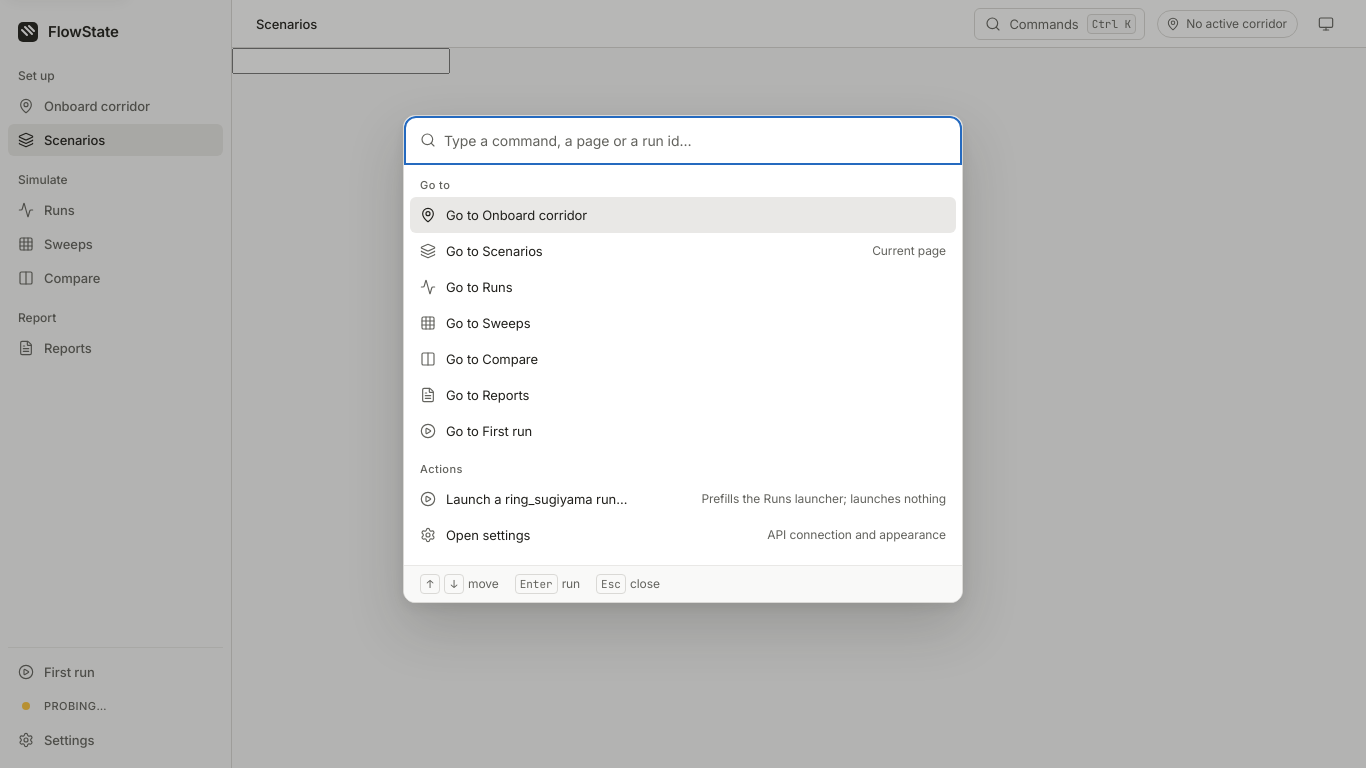
Test case: command palette: keyboard model › finds a page whose name the query spells across words
The image size is (1366, 768).
In the dropdown named "Search commands": point(695, 140) [444,120,946,160], type "goto onboard"
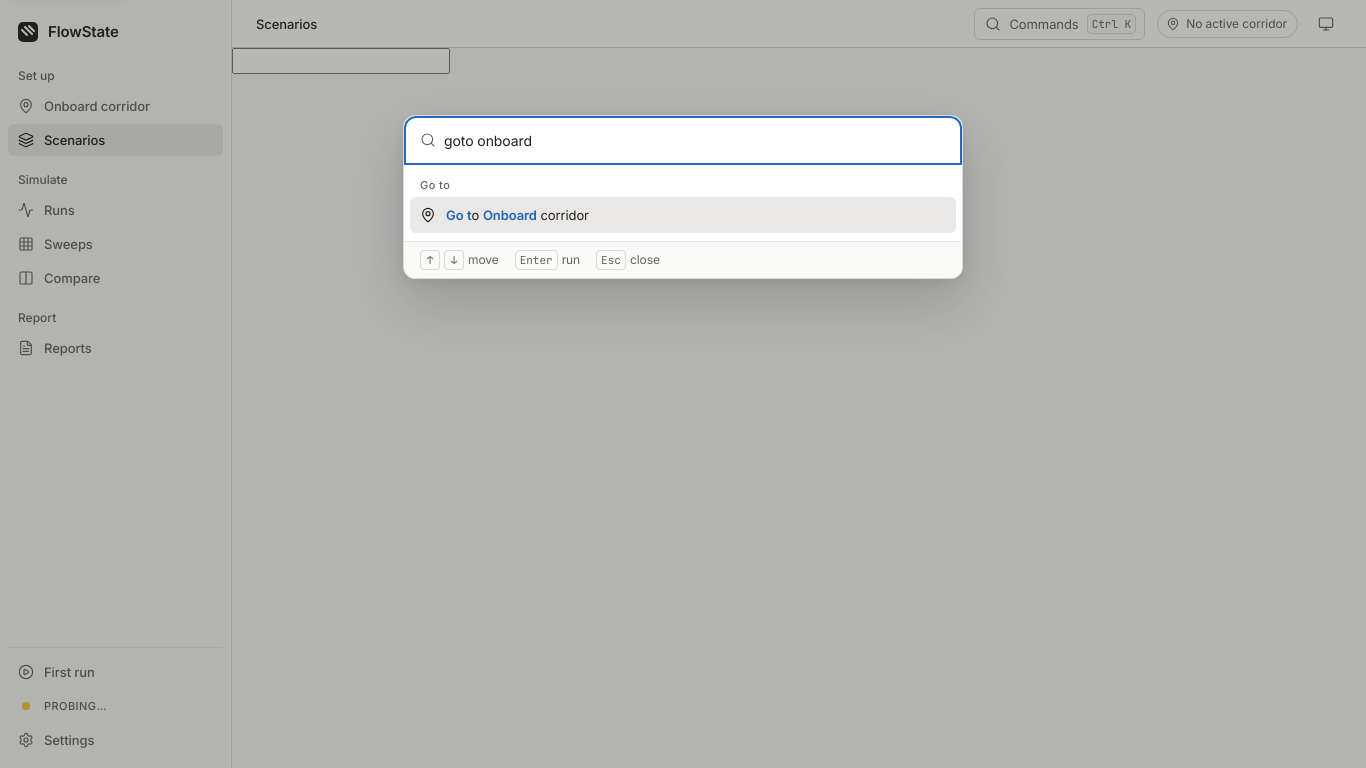
Replace the text in the dropdown named "Search commands" with "gofirst": point(695, 140) [444,120,946,160]
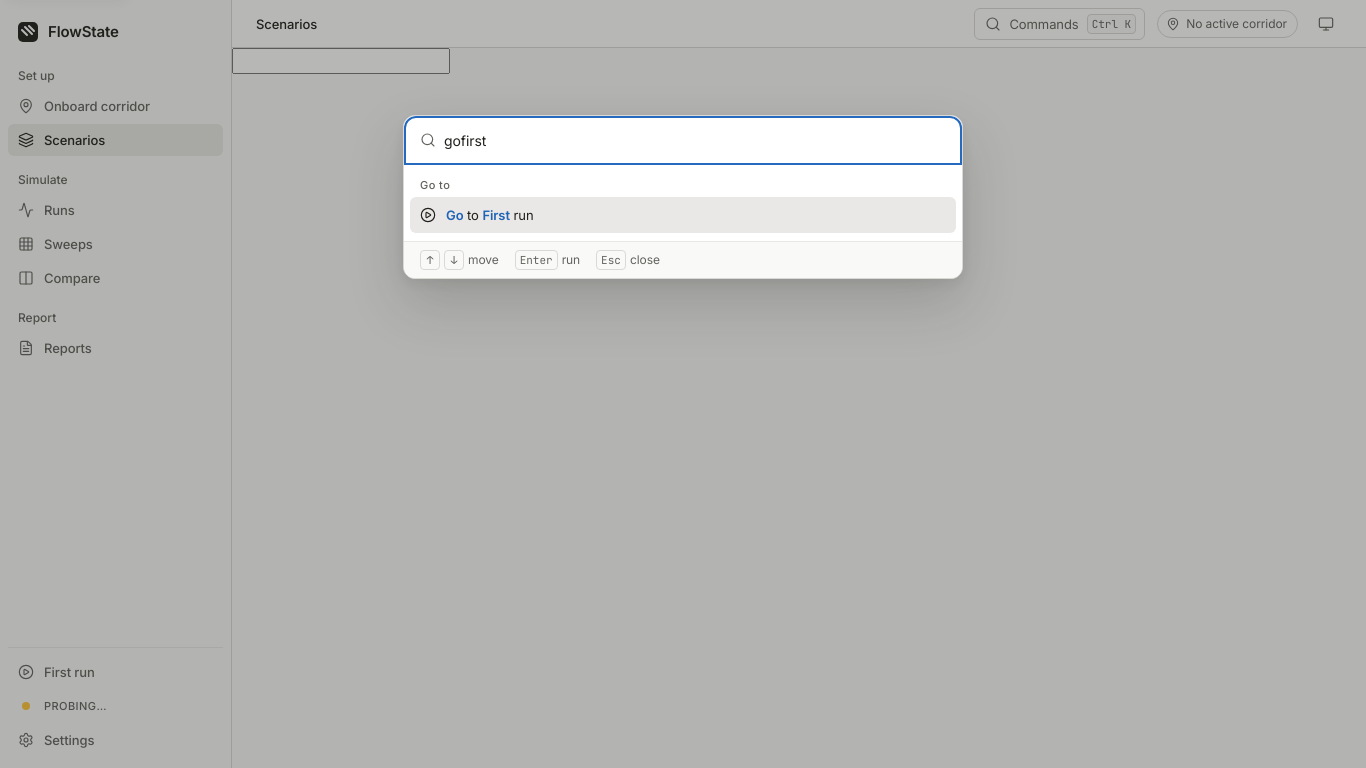
Replace the text in the dropdown named "Search commands" with "goto": point(695, 140) [444,120,946,160]
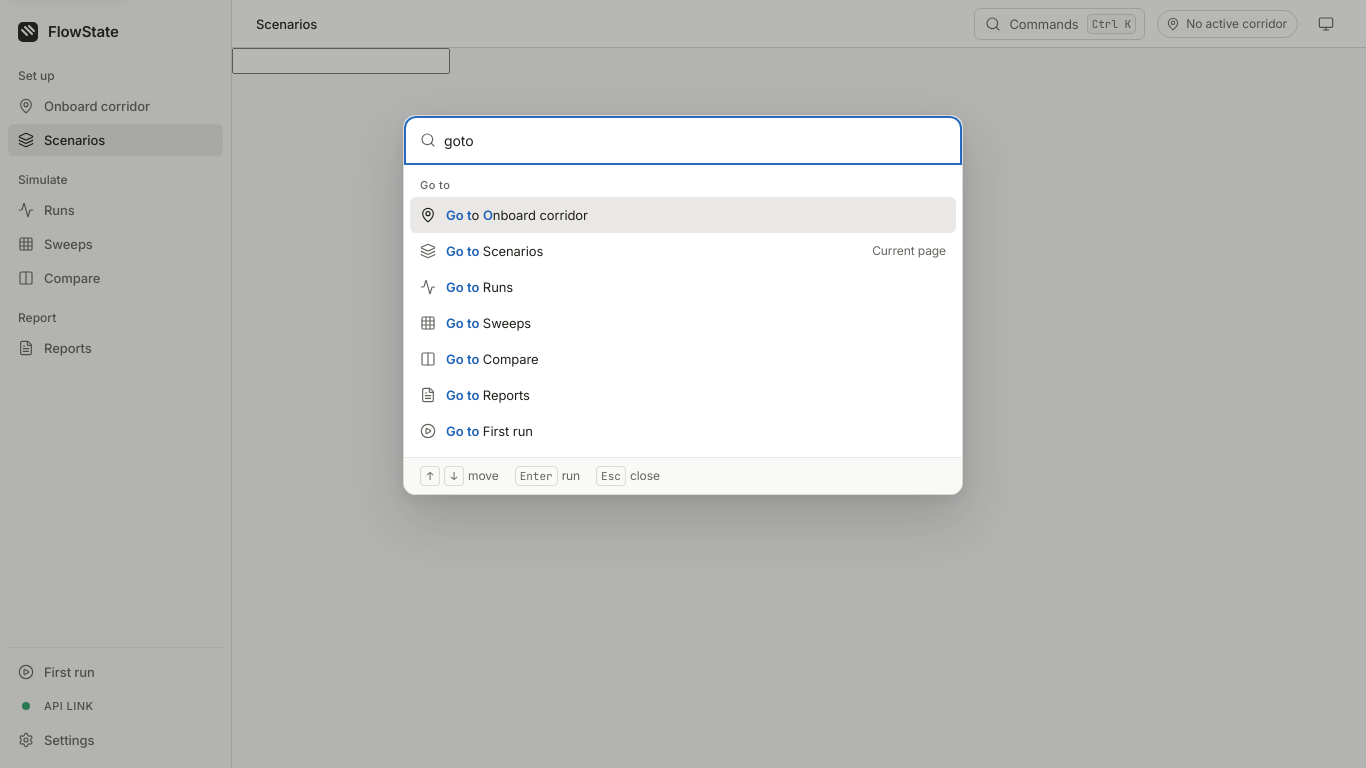
Expected: the text "API LINK" is shown, [44,698,93,714]
